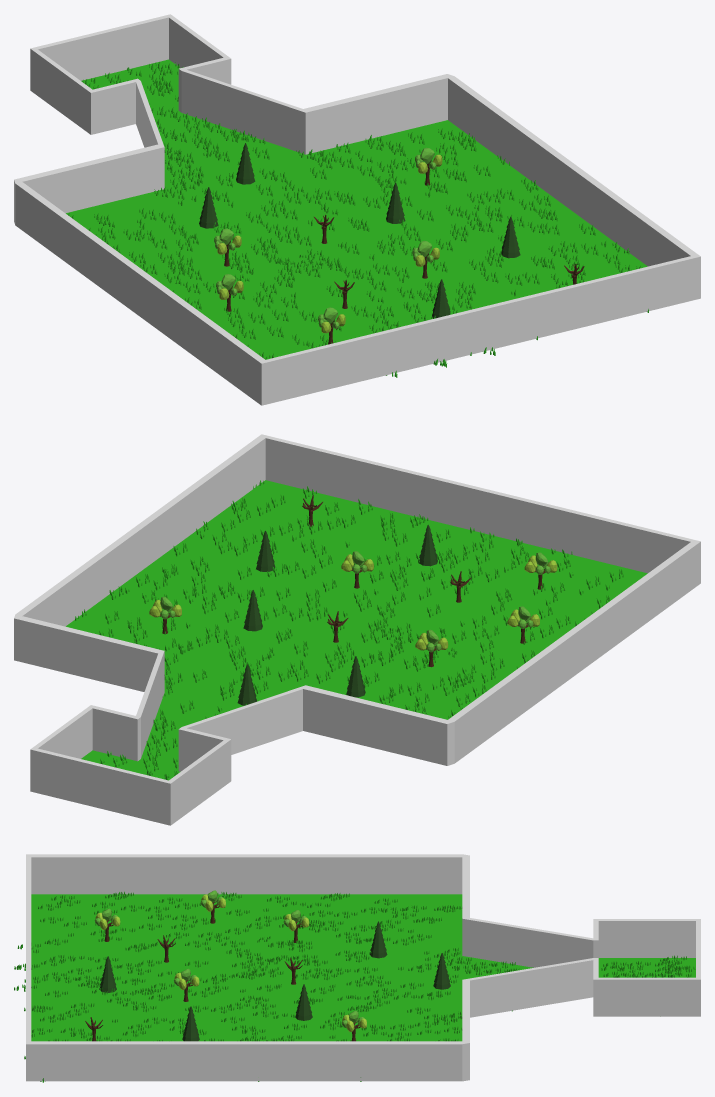
File: Obstacles2.fbx
3 views of the same model, one above another, from view 1: azimuth 30°, elevation 25°; view 2: azimuth 150°, elevation 25°; view 3: azimuth 270°, elevation 25° (orthographic). The views are drawn at different scales.
Parts seen in each view (by area): view 1: Plane.001, Plane.002; view 2: Plane.001, Plane.002; view 3: Plane.002, Plane.001, Tree.009_0.005, Tree.009_0, Tree.009_0.002, Tree.009_0.001, Tree.009_0.003, Pine.002_0.003, Pine.001_0, Pine.002_0, Pine.002_0.002, Pine.002_0.001.
Part boxes in pixels (x1=…): Plane.001: x1=14, y1=14, x2=700, y2=405; Plane.002: x1=66, y1=59, x2=647, y2=359; Plane.001: x1=14, y1=434, x2=700, y2=825; Plane.002: x1=66, y1=480, x2=647, y2=780; Plane.002: x1=31, y1=894, x2=695, y2=1041; Plane.001: x1=26, y1=854, x2=700, y2=1081; Tree.009_0.005: x1=200, y1=890, x2=225, y2=923; Tree.009_0: x1=94, y1=908, x2=120, y2=941; Tree.009_0.002: x1=174, y1=968, x2=199, y2=1001; Tree.009_0.001: x1=283, y1=910, x2=309, y2=942; Tree.009_0.003: x1=341, y1=1010, x2=366, y2=1041; Pine.002_0.003: x1=433, y1=953, x2=450, y2=989; Pine.001_0: x1=295, y1=984, x2=312, y2=1020; Pine.002_0: x1=370, y1=921, x2=387, y2=958; Pine.002_0.002: x1=99, y1=956, x2=116, y2=992; Pine.002_0.001: x1=182, y1=1006, x2=199, y2=1041.
Bounding box in the file's own units: 17584 × 1636 × 26771.
